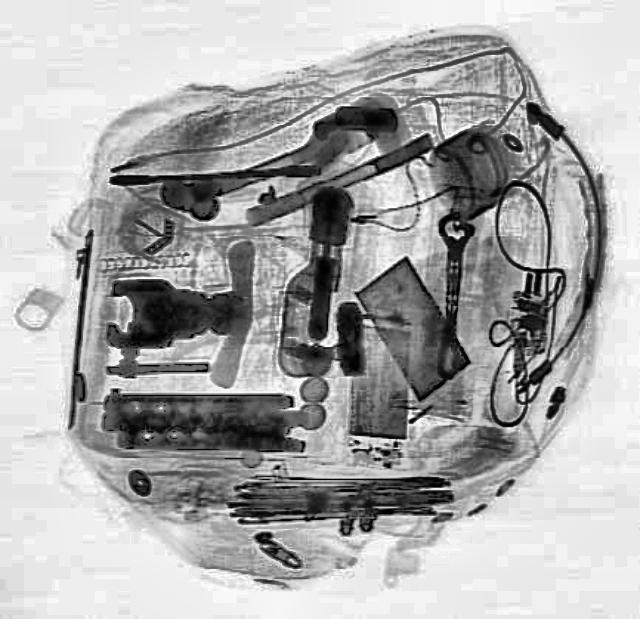Wrench: (422, 210, 474, 378)
